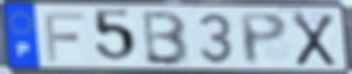3: (193, 11, 235, 66)
5: (91, 8, 140, 67)
B: (141, 9, 192, 67)
F: (42, 10, 86, 63)
P: (236, 11, 290, 67)
X: (290, 10, 337, 68)
